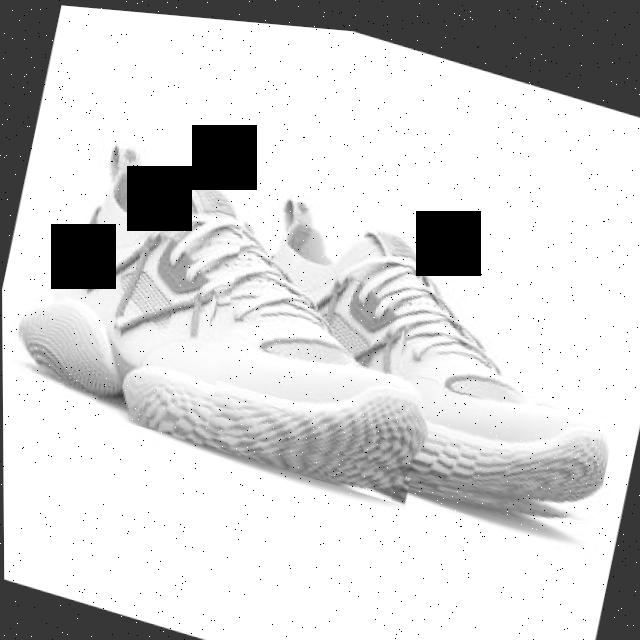shoe: (4, 120, 460, 502), (198, 178, 640, 536)
